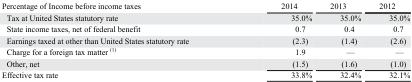table: (0, 0, 409, 79)
table column: (0, 0, 234, 79), (234, 0, 320, 79), (320, 0, 369, 79), (369, 0, 409, 79)
table column header: (0, 0, 409, 11)
table row: (0, 22, 409, 34), (0, 45, 409, 57), (0, 0, 409, 11), (0, 11, 409, 22), (0, 34, 409, 45), (0, 57, 409, 68), (0, 68, 409, 79)
